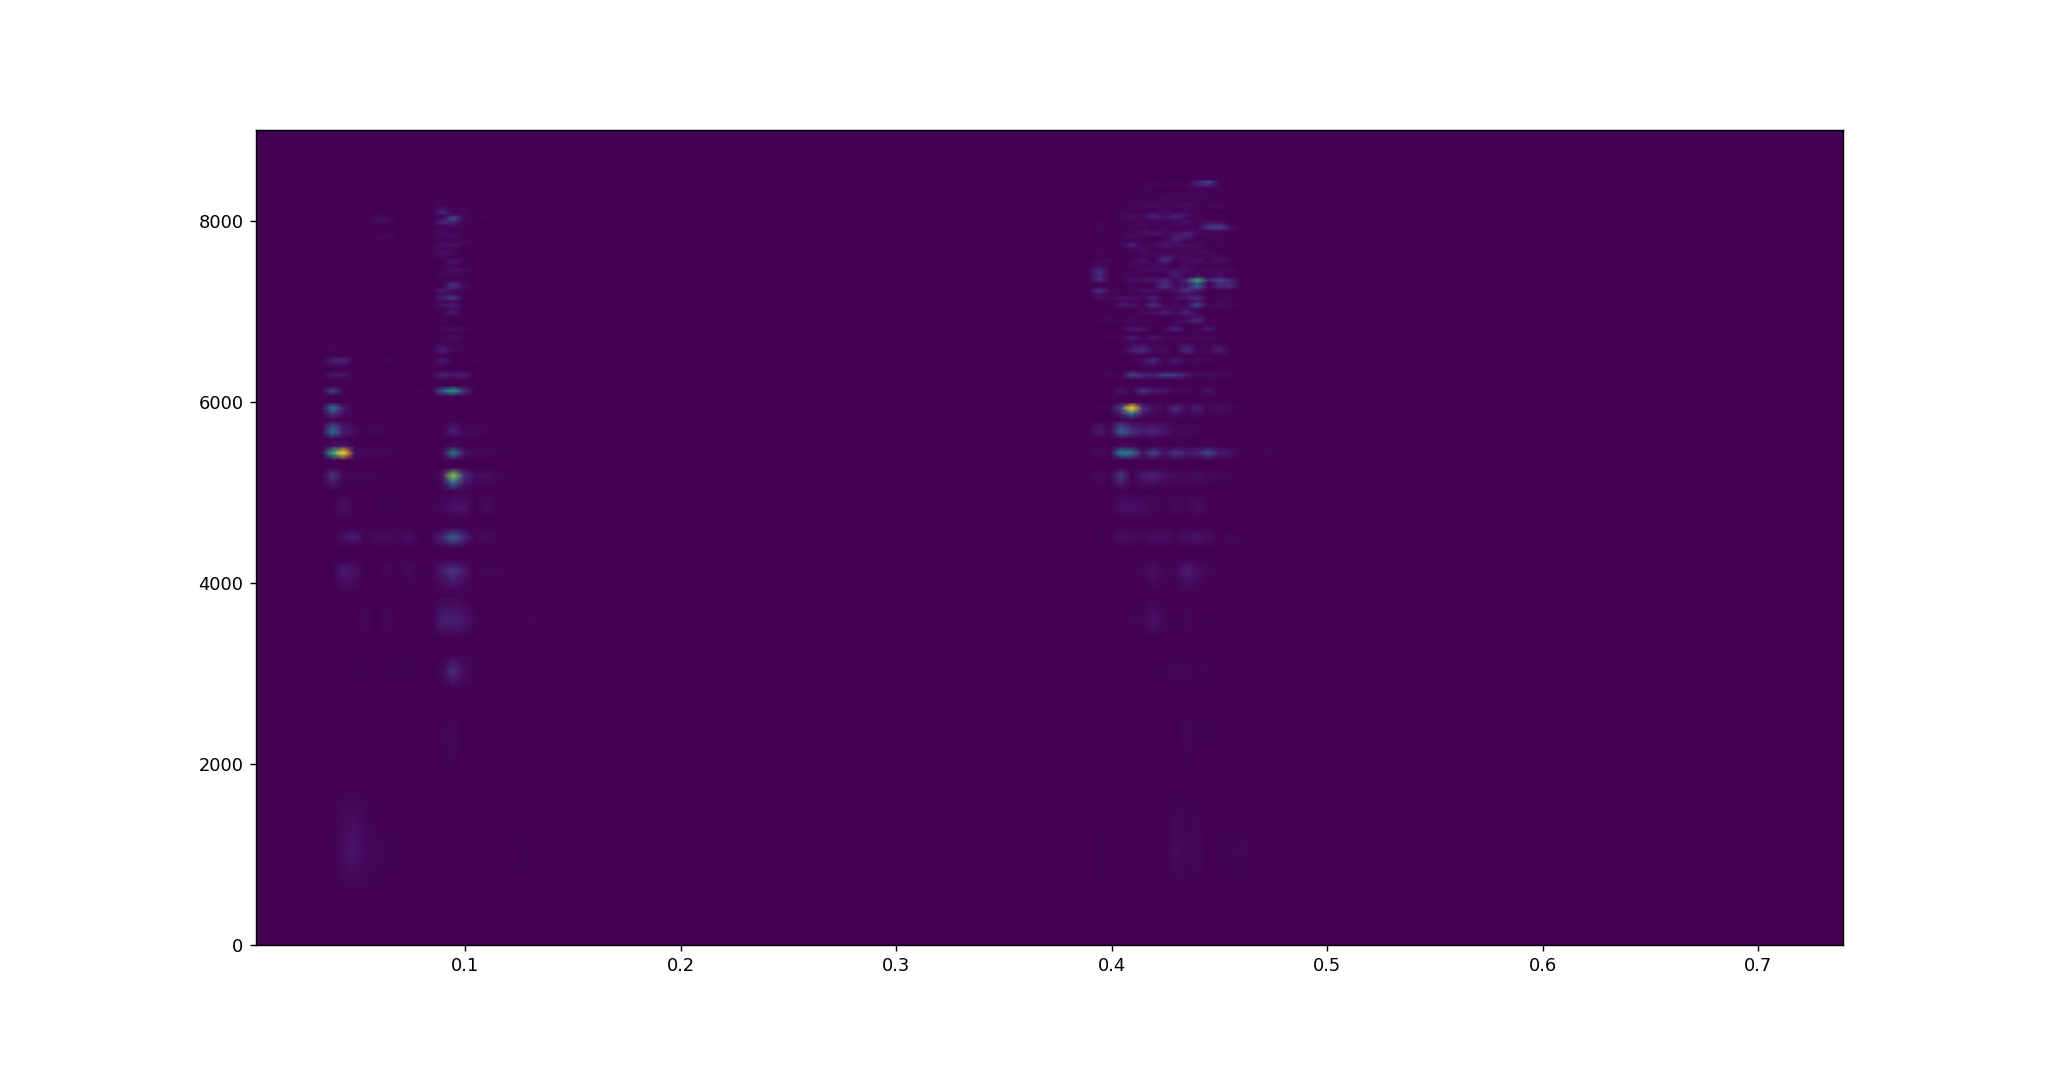M416GL: (320, 178, 1246, 687)
